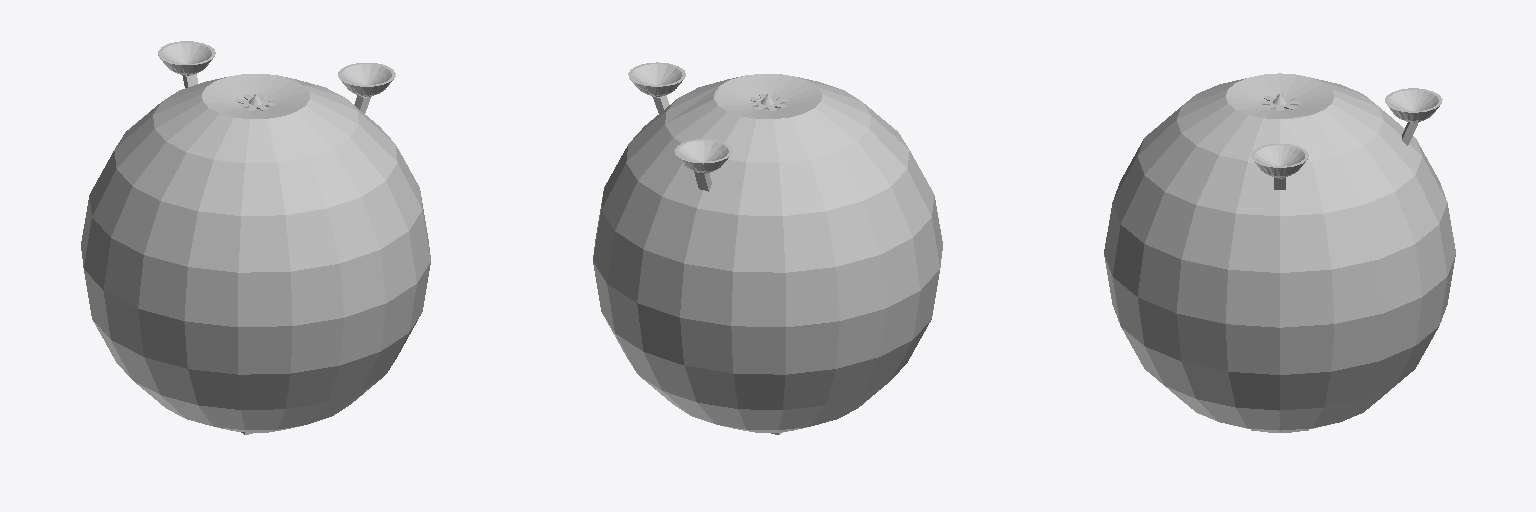
File: soyuztop.obj
The picture shows the model from 3 angles: view 1: azimuth 30°, elevation 25°; view 2: azimuth 150°, elevation 25°; view 3: azimuth 270°, elevation 25°; orthographic projection.
Parts seen in each view (by area): view 1: sphere1; view 2: sphere1; view 3: sphere1.
Boxes of the visible parts, <box> form: sphere1: <box>81,41,430,434</box>; sphere1: <box>593,62,942,434</box>; sphere1: <box>1104,73,1455,432</box>.
Size of the model in its own units: 6 by 6.1 by 6.